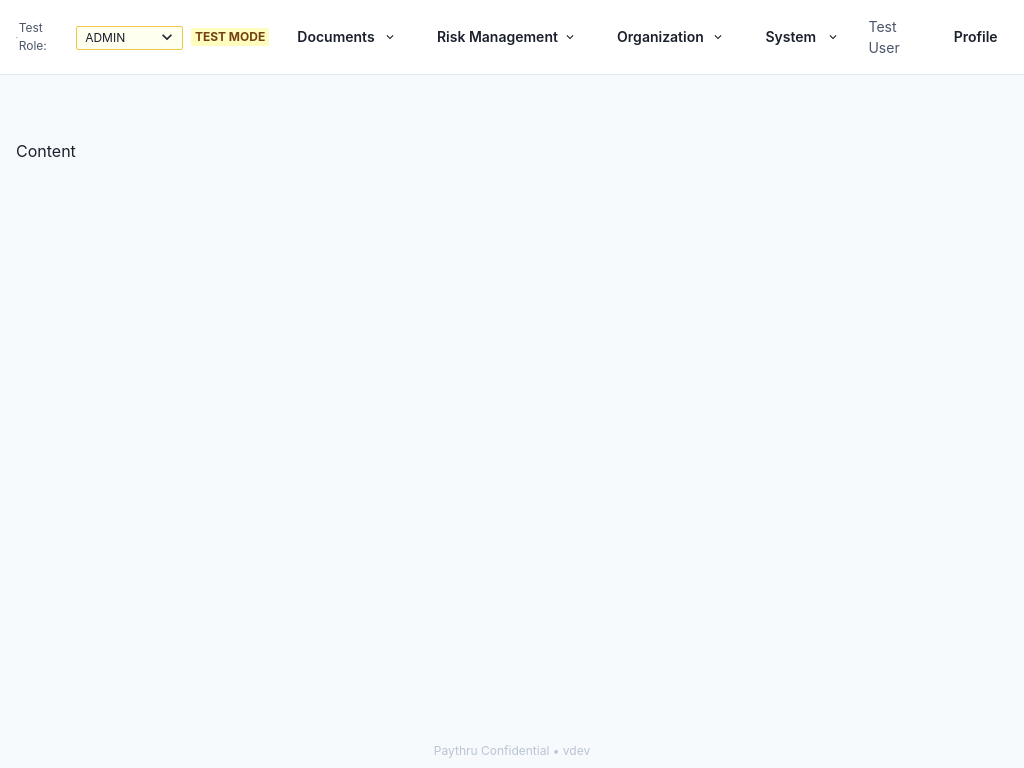
Test: Layout Navigation › renders the new navigation structure for ADMIN
Expected: the text "Documents" is shown, top-left (297, 28), bottom-right (375, 45)
Expected: the text "Risk Management" is shown, top-left (437, 28), bottom-right (558, 45)
// Check for specific items in Documents
Click the button "Documents" at (347, 37), box top-left (285, 21), bottom-right (409, 53)
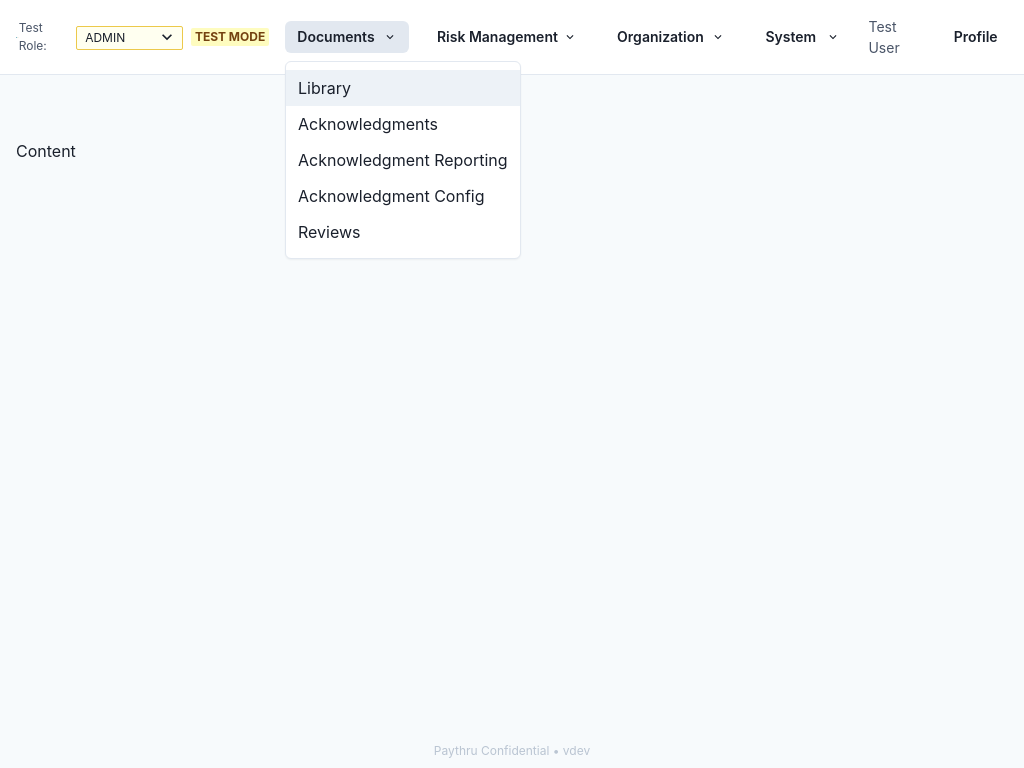
Now the menu item "Library" is shown, box top-left (286, 70), bottom-right (520, 106)
Now the menu item "Acknowledgments" is shown, box top-left (286, 106), bottom-right (520, 142)
Now the menu item "Reviews" is shown, box top-left (286, 214), bottom-right (520, 250)
// Check for specific items in Risk Management
Click the button "Risk Management" at (507, 37), box top-left (425, 21), bottom-right (589, 53)
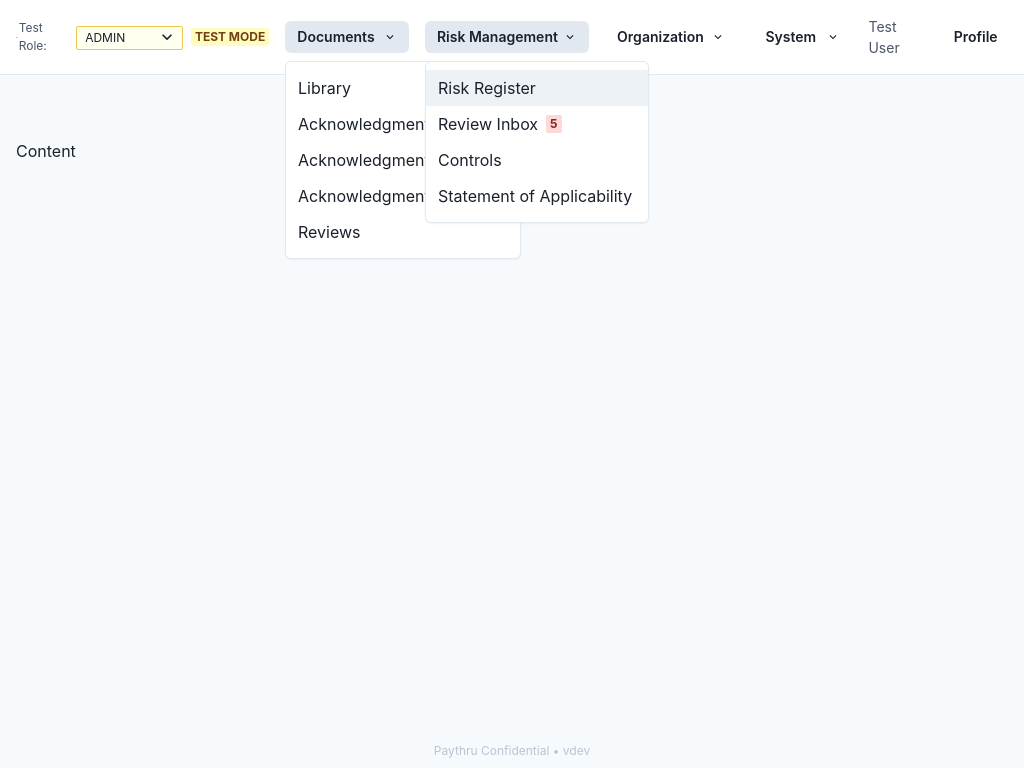
Now the menu item "Risk Register" is shown, box top-left (426, 70), bottom-right (648, 106)
Now the menu item "Review Inbox 5" is shown, box top-left (426, 106), bottom-right (648, 142)
Now the menu item "Controls" is shown, box top-left (426, 142), bottom-right (648, 178)
// Check for specific items in Organization
Click the button "Organization" at (671, 37), box top-left (605, 21), bottom-right (738, 53)
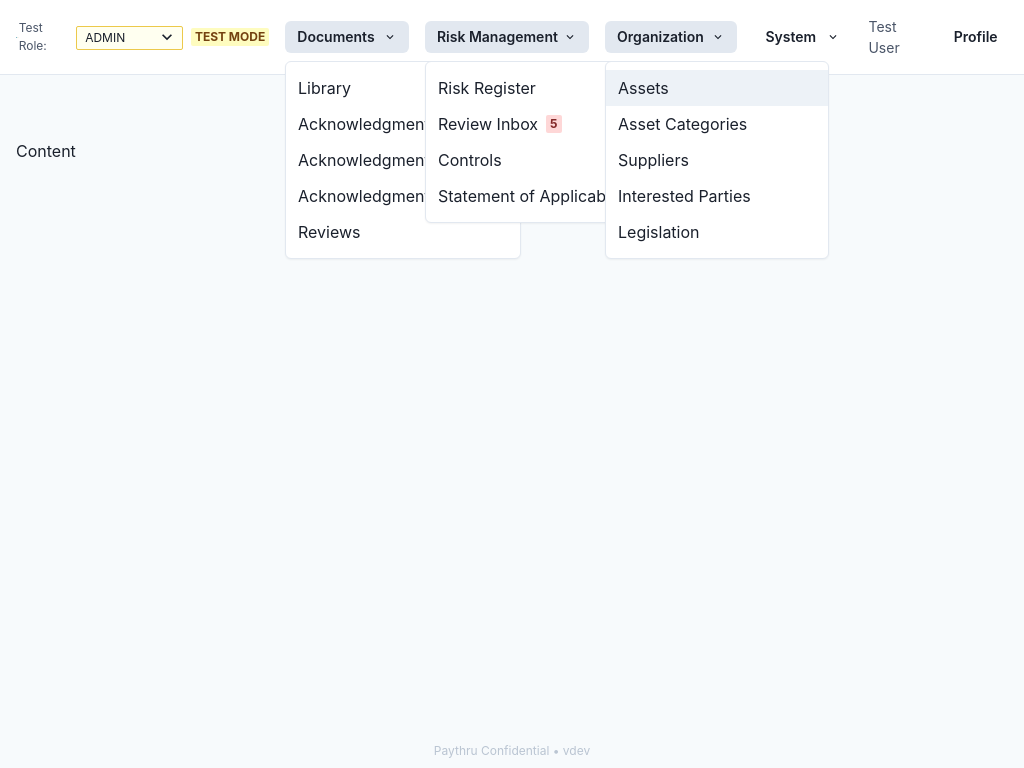
Now the menu item "Assets" is shown, box top-left (606, 70), bottom-right (828, 106)
Now the menu item "Asset Categories" is shown, box top-left (606, 106), bottom-right (828, 142)
Now the menu item "Suppliers" is shown, box top-left (606, 142), bottom-right (828, 178)
// Check for specific items in System
Click the button "System" at (803, 37), box top-left (754, 21), bottom-right (852, 53)
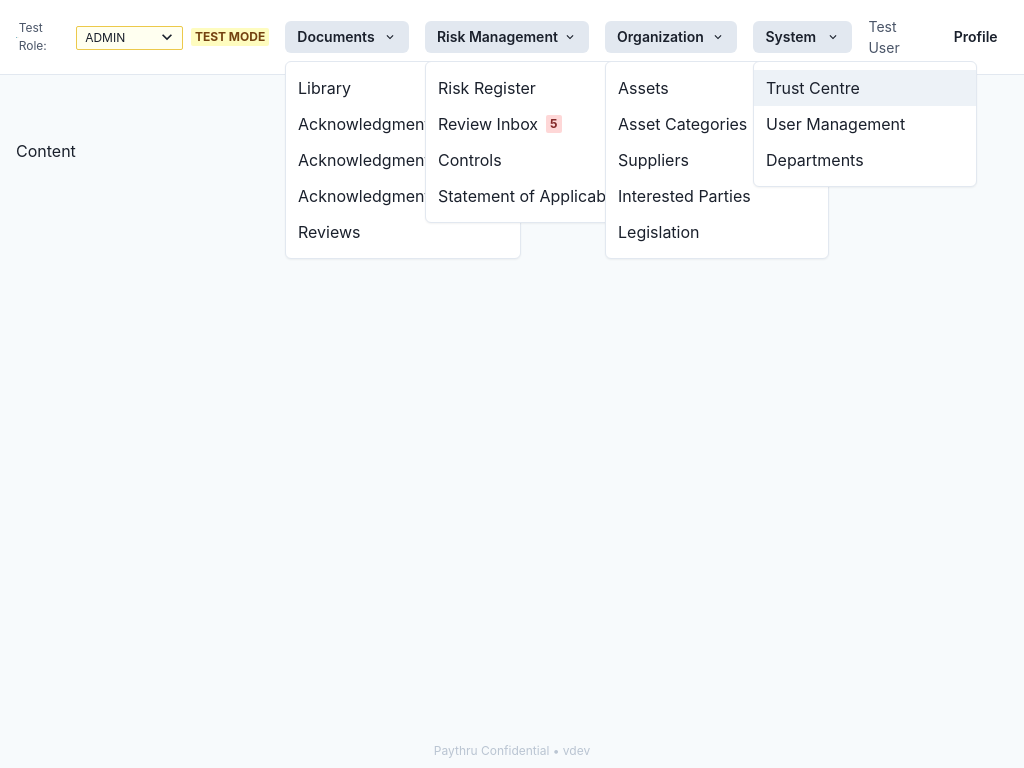
Now the menu item "Trust Centre" is shown, box top-left (754, 70), bottom-right (976, 106)
Now the menu item "User Management" is shown, box top-left (754, 106), bottom-right (976, 142)
